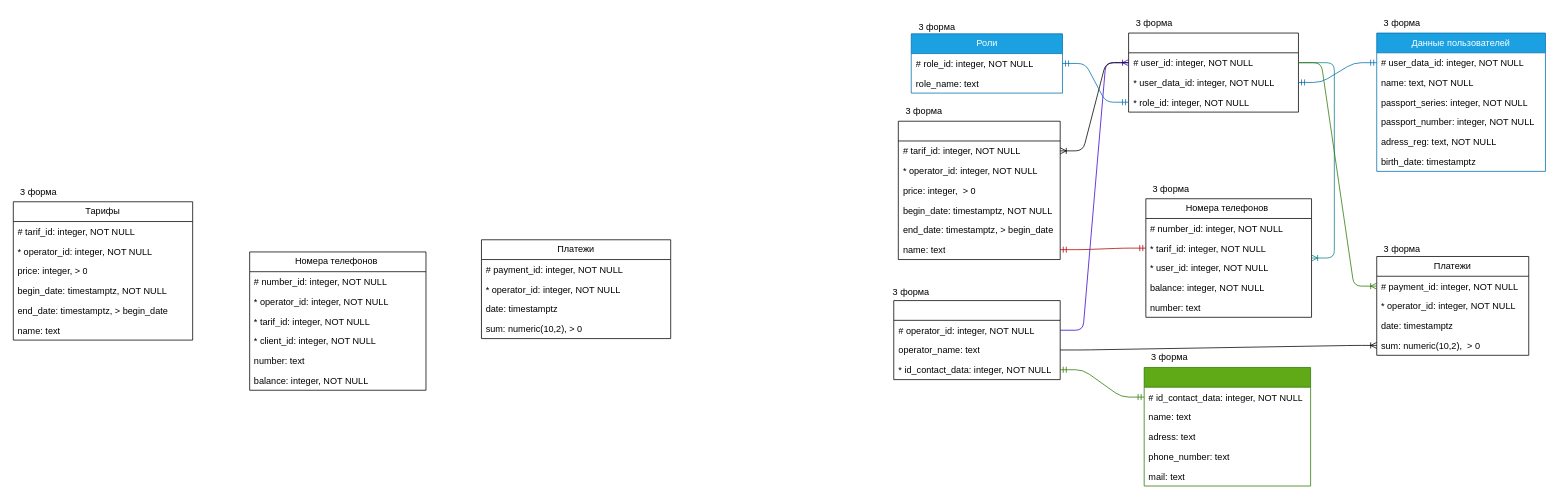
Image size: 1559x501. Some labels were removed from this diagram. Here are the shapes that lost their labels. From the top down, the box of each, then its label:
(1128, 32, 1298, 112): Пользователь
(898, 120, 1060, 260): Тариф
(893, 300, 1060, 380): Операторы
(1143, 367, 1311, 486): Юр. Лица
